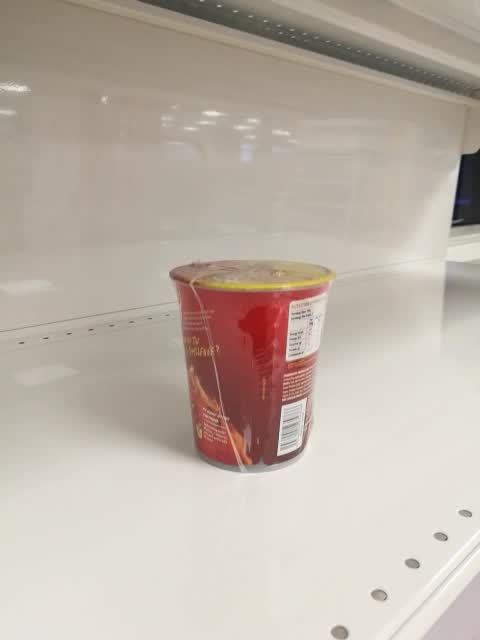maggi: (169, 261, 337, 474)
